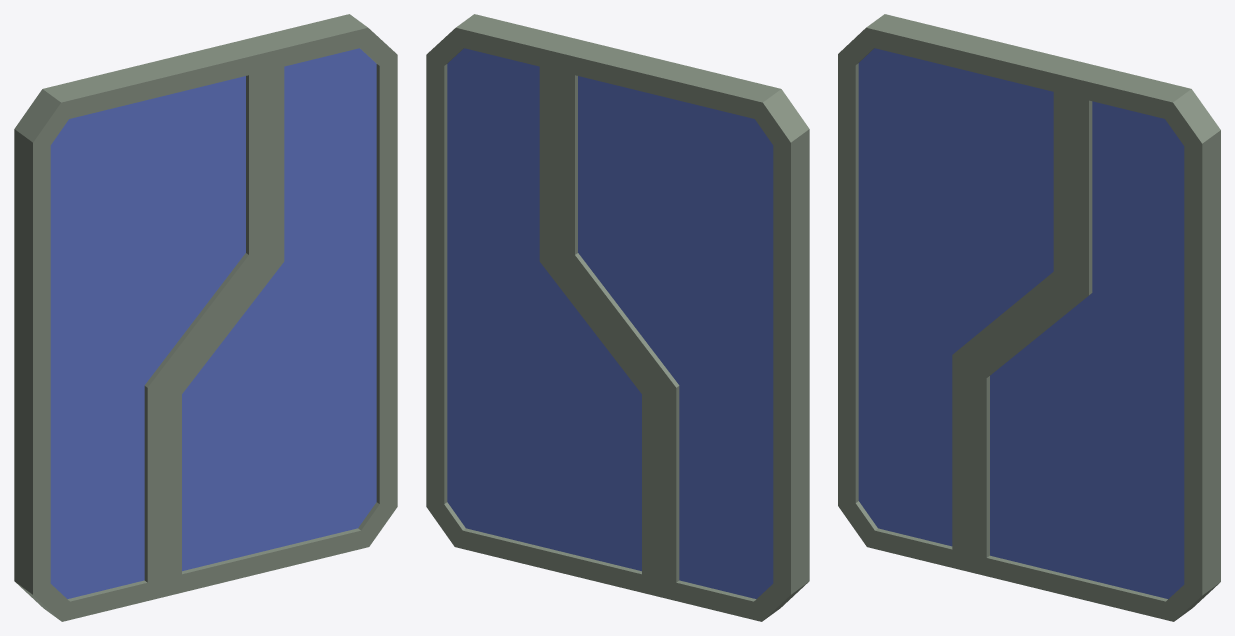
The model's file is sci fi set - glass doors.fbx.
The picture shows the model from 3 angles, left to right: view 1: azimuth 30°, elevation 25°; view 2: azimuth 150°, elevation 25°; view 3: azimuth 330°, elevation 25°; orthographic projection.
Parts seen in each view (by area): view 1: Door_Right_002, Door_Left_002; view 2: Door_Right_002, Door_Left_002; view 3: Door_Left_002, Door_Right_002.
Part boxes in pixels (x1=…): Door_Right_002: x1=14, y1=39, x2=266, y2=621; Door_Left_002: x1=164, y1=14, x2=397, y2=596; Door_Right_002: x1=557, y1=39, x2=809, y2=621; Door_Left_002: x1=426, y1=14, x2=659, y2=596; Door_Left_002: x1=969, y1=64, x2=1220, y2=621; Door_Right_002: x1=838, y1=14, x2=1089, y2=571.
Size of the model in its own units: 1.69 by 2.3 by 0.15.
